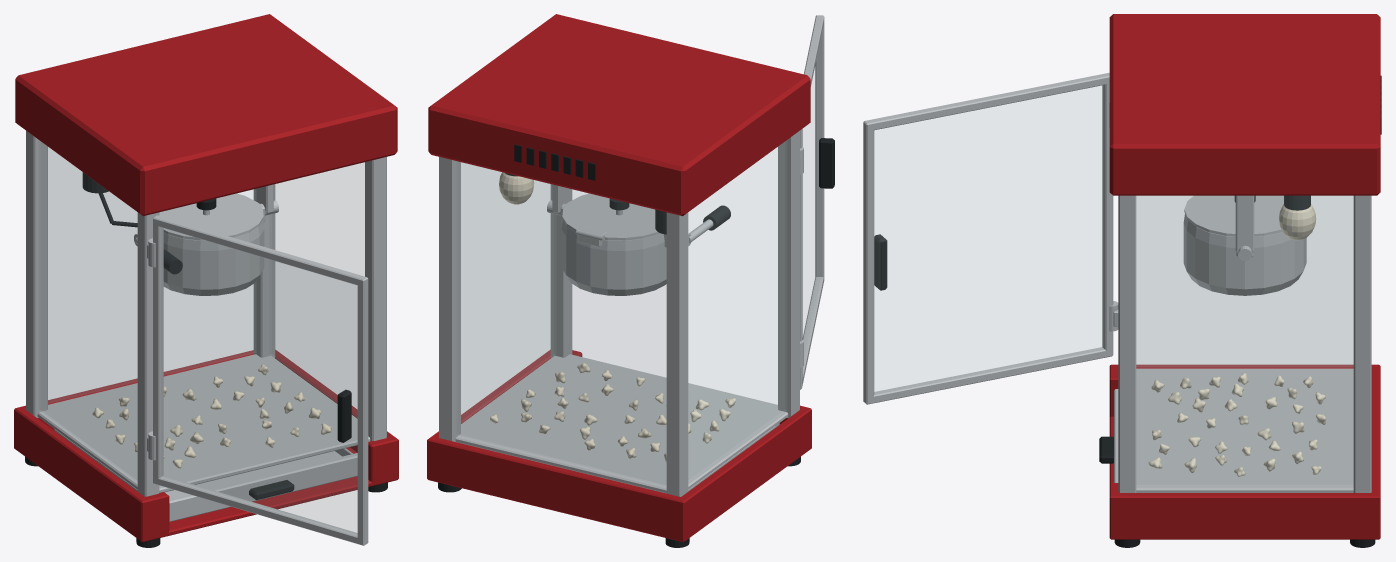
3 renders of one model, left to right at view 1: azimuth 30°, elevation 25°; view 2: azimuth 150°, elevation 25°; view 3: azimuth 270°, elevation 25°, orthographic. The views are drawn at different scales.
Parts seen in each view (by area): view 1: Top canopy, Door glass, Side glass -0.188, Rear glass, Serving floor, Side glass 0.188, Corner post -0.185 0.157, Cabinet base side -0.20255, Corner post 0.185 -0.157, Hollow kettle, Corner post -0.185 -0.157, Crumb drawer front (+14 smaller); view 2: Rear glass, Top canopy, Side glass -0.188, Serving floor, Side glass 0.188, Cabinet base rear, Corner post -0.185 0.157, Corner post 0.185 0.157, Cabinet base side -0.20255, Corner post -0.185 -0.157, Hollow kettle, Door glass (+10 smaller); view 3: Side glass 0.188, Door glass, Top canopy, Side glass -0.188, Serving floor, Cabinet base side 0.20255, Hollow kettle, Corner post 0.185 0.157, Corner post 0.185 -0.157, Door side rail 0.171, Kettle lid, Door cross rail 0.511 (+8 smaller).
Part boxes in pixels (bbox=[...]): Top canopy: bbox=[15, 14, 397, 216]; Door glass: bbox=[162, 228, 357, 533]; Side glass -0.188: bbox=[39, 142, 137, 481]; Rear glass: bbox=[48, 147, 255, 402]; Serving floor: bbox=[37, 354, 370, 492]; Side glass 0.188: bbox=[271, 162, 364, 416]; Corner post -0.185 0.157: bbox=[26, 130, 47, 418]; Cabinet base side -0.20255: bbox=[14, 407, 147, 538]; Corner post 0.185 -0.157: bbox=[365, 157, 386, 441]; Hollow kettle: bbox=[163, 220, 264, 295]; Corner post -0.185 -0.157: bbox=[137, 212, 159, 496]; Crumb drawer front: bbox=[169, 453, 357, 521]; Rear glass: bbox=[457, 162, 666, 485]; Top canopy: bbox=[428, 14, 810, 216]; Side glass -0.188: bbox=[688, 142, 786, 481]; Serving floor: bbox=[455, 354, 788, 493]; Side glass 0.188: bbox=[461, 163, 554, 422]; Cabinet base rear: bbox=[432, 437, 681, 537]; Corner post -0.185 0.157: bbox=[666, 212, 688, 496]; Corner post 0.185 0.157: bbox=[439, 157, 460, 441]; Cabinet base side -0.20255: bbox=[676, 406, 811, 538]; Corner post -0.185 -0.157: bbox=[778, 130, 799, 418]; Hollow kettle: bbox=[561, 220, 666, 295]; Door glass: bbox=[803, 55, 817, 342]; Side glass 0.188: bbox=[1136, 196, 1353, 485]; Door glass: bbox=[874, 85, 1102, 392]; Top canopy: bbox=[1109, 14, 1380, 195]; Side glass -0.188: bbox=[1137, 196, 1352, 366]; Serving floor: bbox=[1136, 368, 1353, 492]; Cabinet base side 0.20255: bbox=[1109, 493, 1380, 535]; Hollow kettle: bbox=[1183, 214, 1306, 295]; Corner post 0.185 0.157: bbox=[1353, 195, 1371, 492]; Corner post 0.185 -0.157: bbox=[1118, 195, 1136, 492]; Door side rail 0.171: bbox=[863, 120, 874, 404]; Kettle lid: bbox=[1184, 195, 1283, 236]; Door cross rail 0.511: bbox=[870, 74, 1106, 130].
Bounding box in the file's own units: 0.4191 × 0.5969 × 0.6923.
